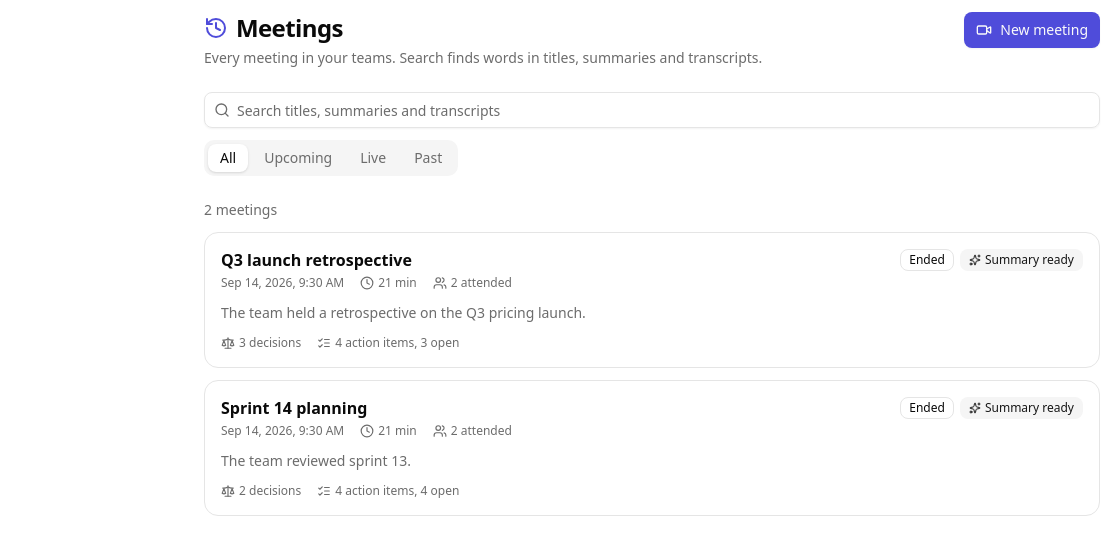
Test case: <MeetingsPage /> › searches once typing pauses, and shows why each meeting matched
Expected: the text "2 meetings" is shown, [204, 200, 277, 219]
Type "pricing" into the search field named "Search meetings" at (652, 110), box [204, 92, 1100, 128]
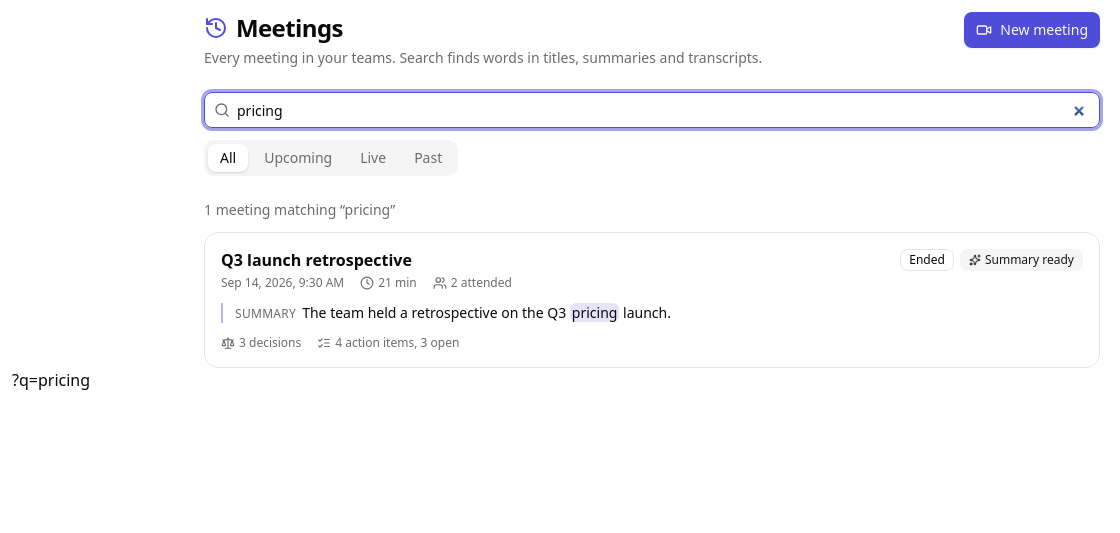
Result: the text "1 meeting matching “pricing”" is shown at [204, 200, 395, 219]
Result: the text named "URL" reads "?q=pricing" at [12, 369, 90, 391]
Result: the text "pricing" is shown at [570, 303, 619, 322]
